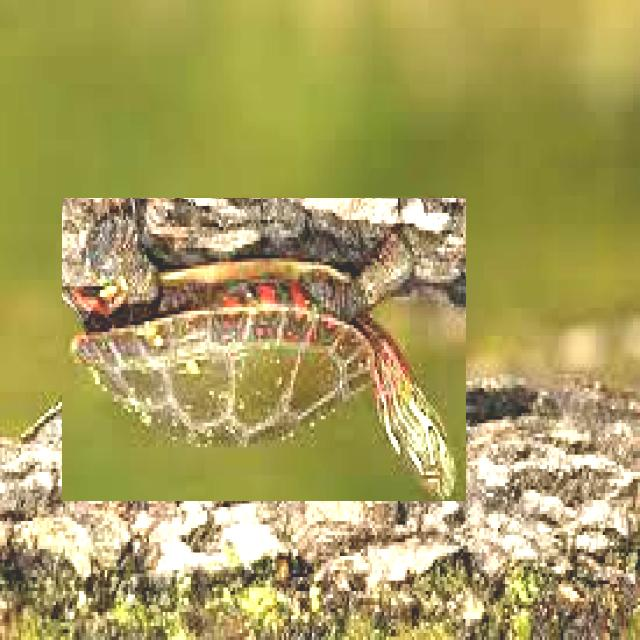Sea turtle: (62, 198, 466, 501)
